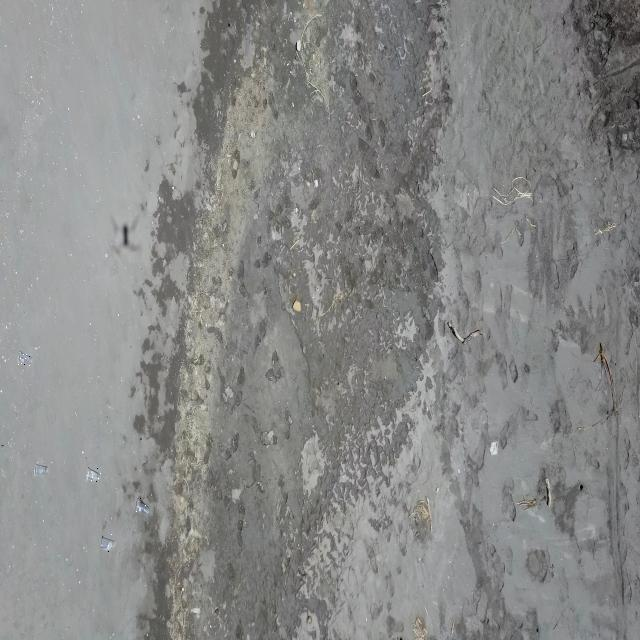takeaway-cup: (85, 468, 101, 484), (33, 462, 49, 478), (101, 534, 115, 552), (135, 497, 149, 515), (18, 352, 33, 368)
